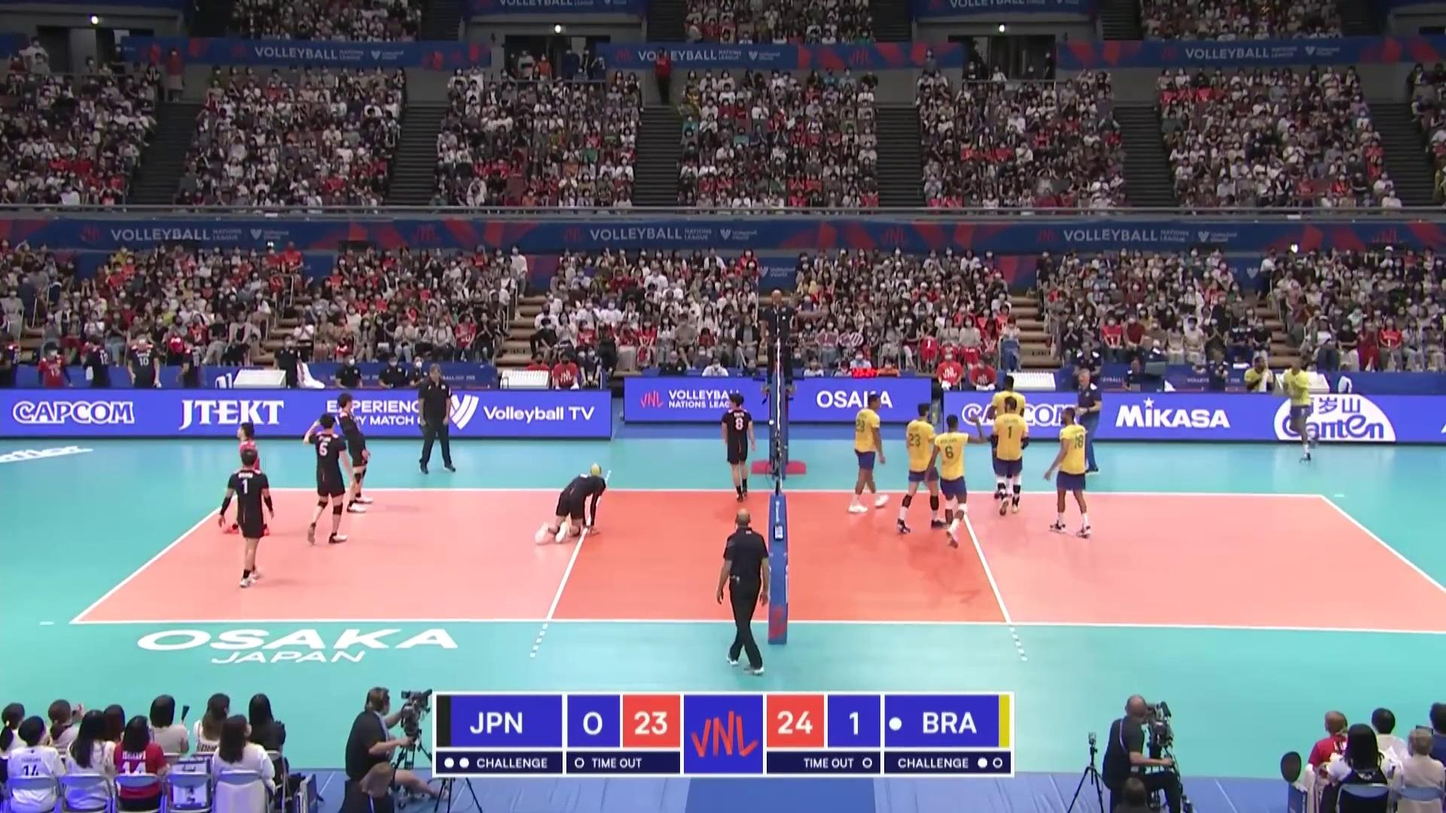player: (219, 451, 274, 588), (1043, 407, 1097, 536), (933, 413, 979, 546), (532, 467, 607, 547), (898, 401, 943, 534), (302, 414, 348, 544), (847, 394, 892, 517), (224, 422, 272, 536), (988, 374, 1028, 496), (990, 397, 1031, 516), (335, 393, 374, 512), (720, 390, 757, 500), (1283, 357, 1320, 464)
refree: (721, 512, 773, 671), (757, 289, 799, 393)
